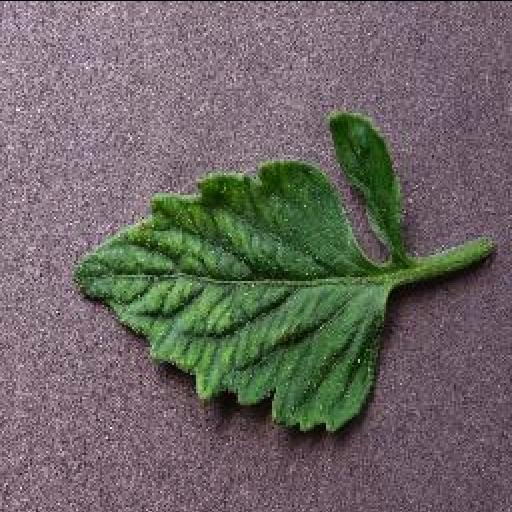Mosaic Virus: (68, 110, 406, 440)
